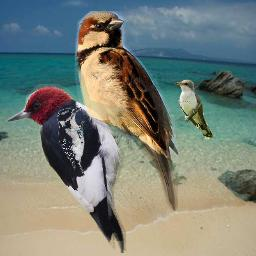Cuckoo: (175, 79, 213, 139)
Swallow: (74, 11, 178, 211)
Woodpecker: (0, 84, 135, 253), (57, 107, 86, 174)
